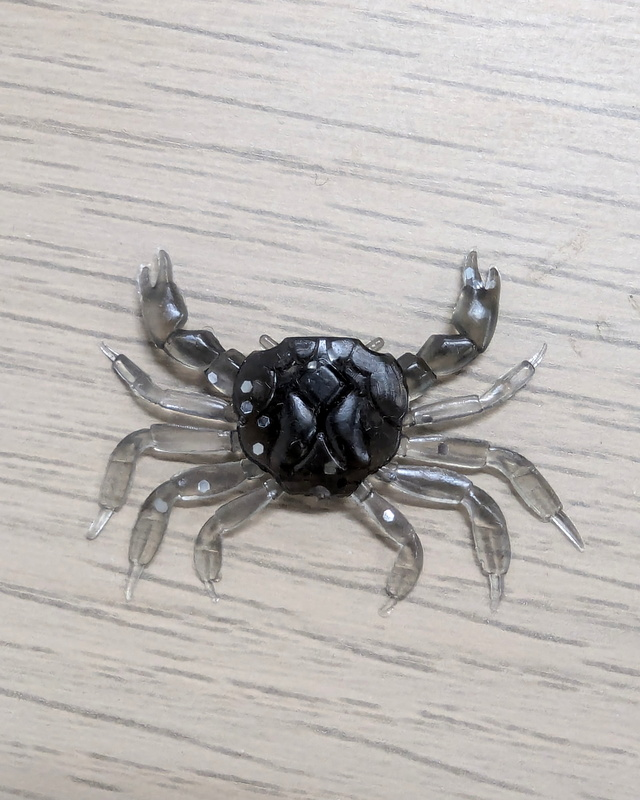crab1: (84, 246, 591, 620)
